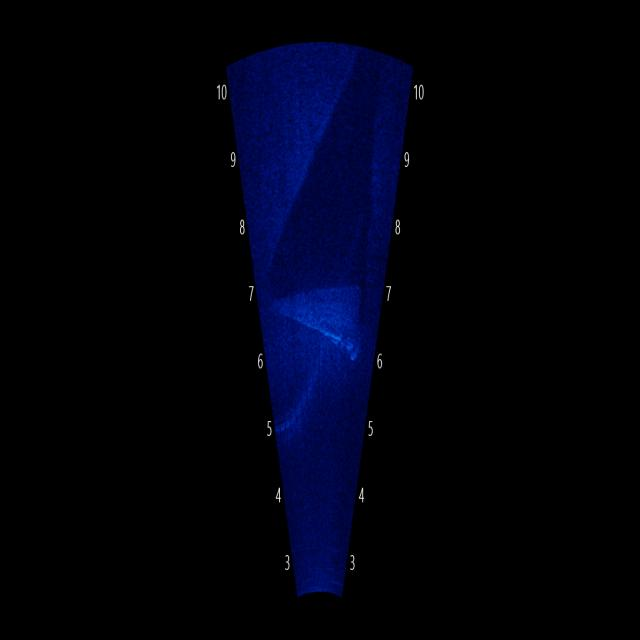triangle: (270, 273, 368, 366)
